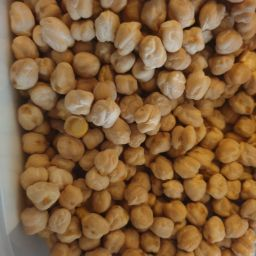White Chickpeas: (5, 7, 251, 256), (39, 28, 244, 162), (53, 43, 213, 202), (26, 128, 214, 242)
